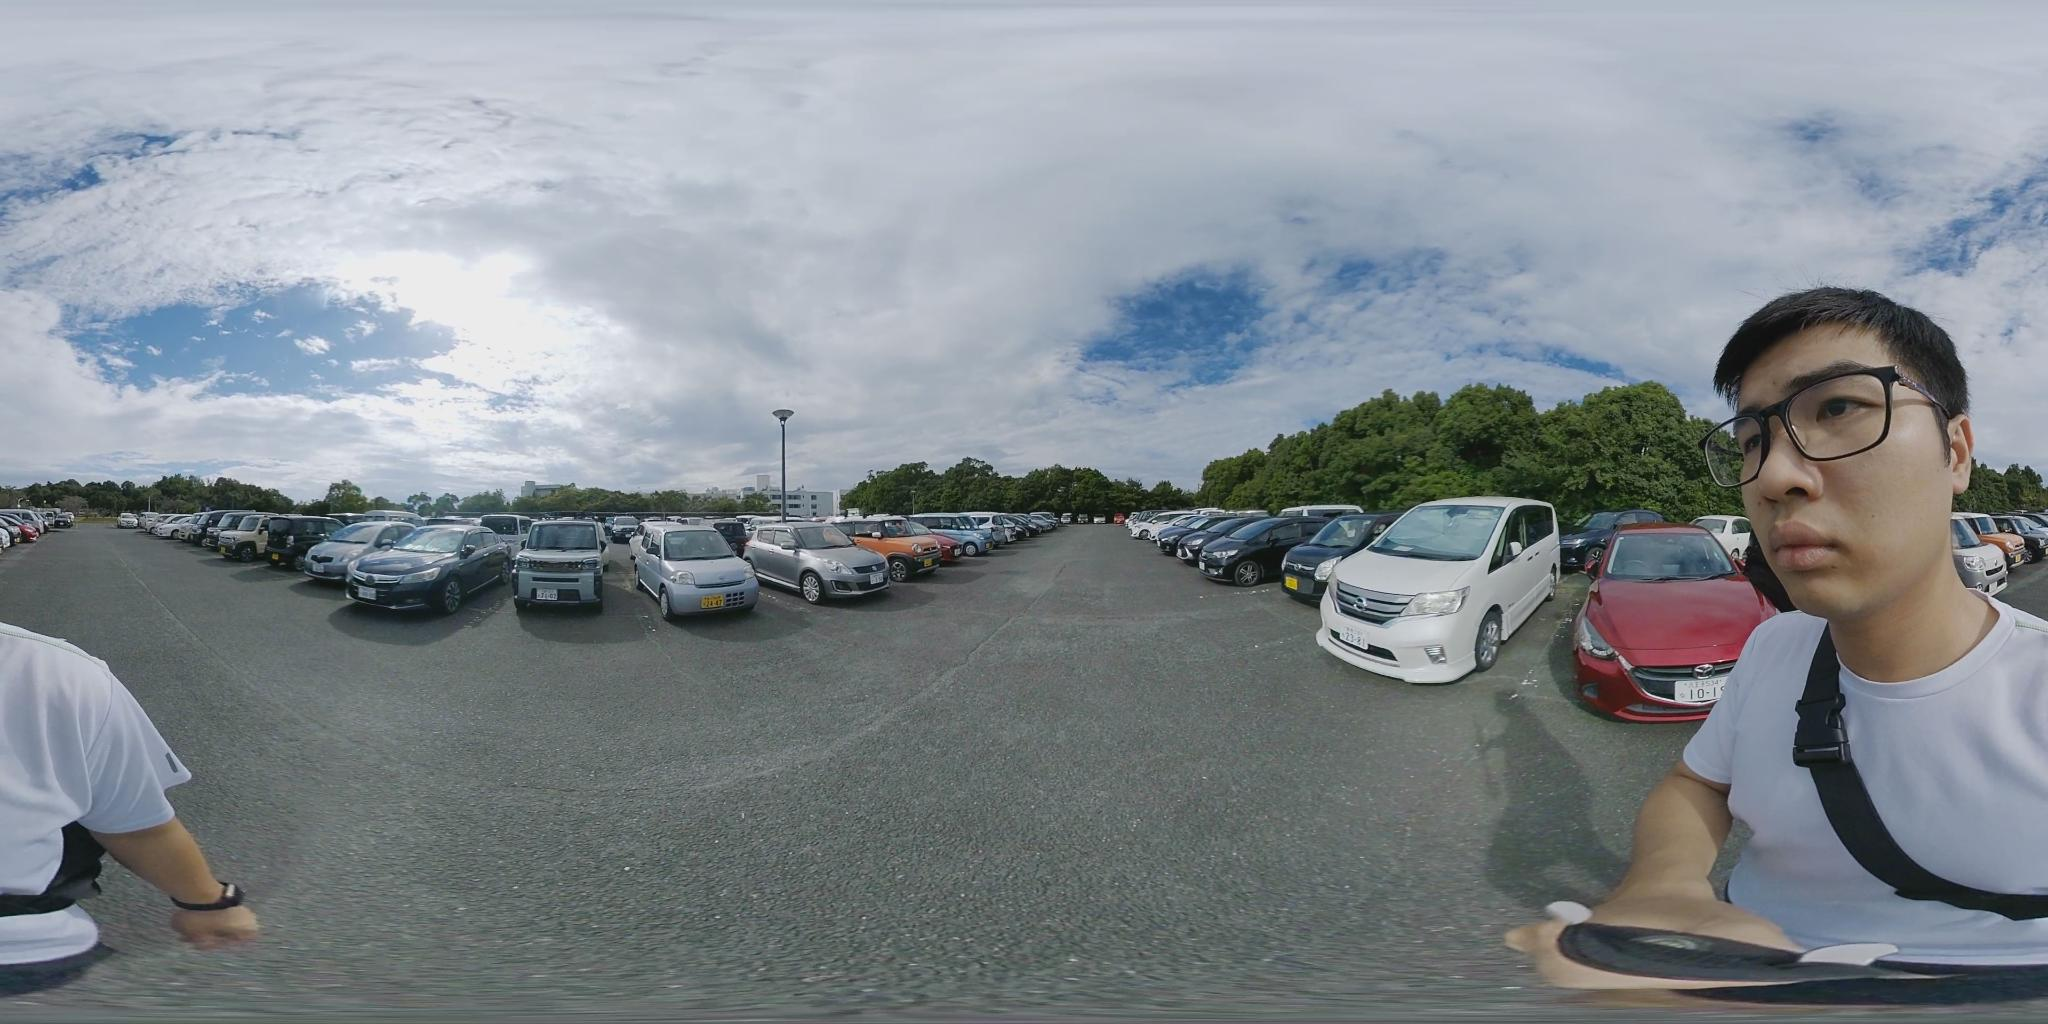car: (1315, 495, 1563, 687), (1567, 530, 1778, 720), (337, 526, 519, 618), (633, 516, 768, 620), (738, 521, 899, 601), (1192, 515, 1351, 584), (1260, 515, 1387, 594), (516, 521, 603, 615), (308, 519, 435, 580), (831, 525, 965, 572), (246, 515, 345, 567), (1145, 512, 1226, 558), (189, 513, 270, 556), (0, 515, 38, 549), (120, 513, 159, 533)
